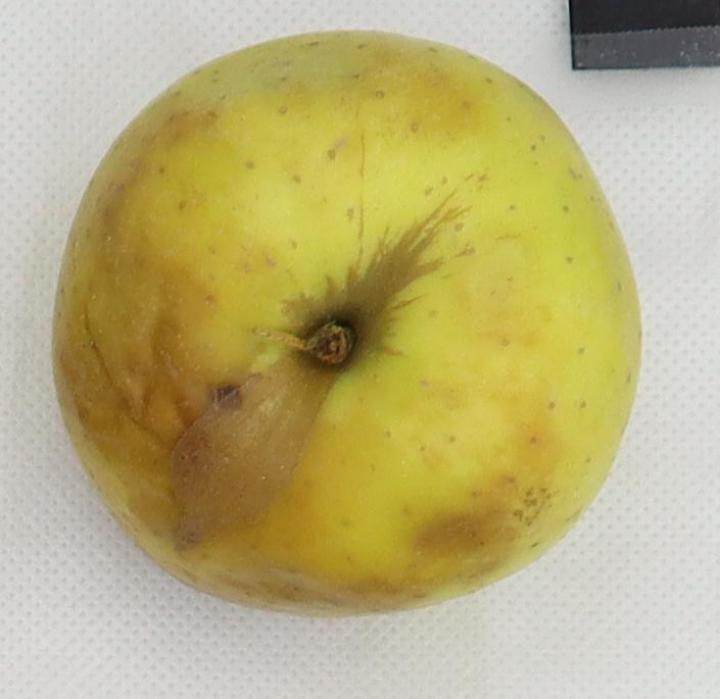apple: (54, 32, 640, 614)
bruise_discoloration: (287, 197, 463, 366)
rot_mold_decay: (53, 156, 266, 586), (172, 356, 333, 540)
